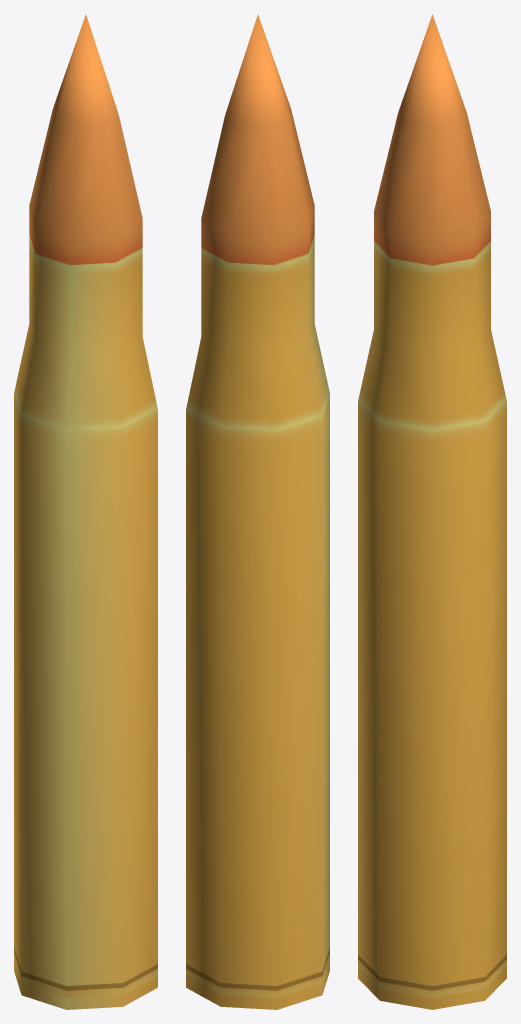
The model's file is RifleBullet.obj.
3 views of the same model, side by side, from view 1: azimuth 30°, elevation 25°; view 2: azimuth 150°, elevation 25°; view 3: azimuth 270°, elevation 25° (orthographic).
Parts seen in each view (by area): view 1: Cylinder.005; view 2: Cylinder.005; view 3: Cylinder.005.
Part boxes in pixels (x1,y1,x2,y2): Cylinder.005: (14, 14, 157, 1009); Cylinder.005: (186, 14, 329, 1009); Cylinder.005: (358, 14, 506, 1009).
Size of the model in its own units: 0.00997 by 0.0713 by 0.00997.
